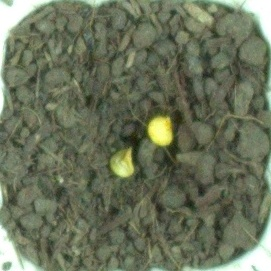pepper seed: (57, 40, 233, 188), (37, 55, 176, 235)
